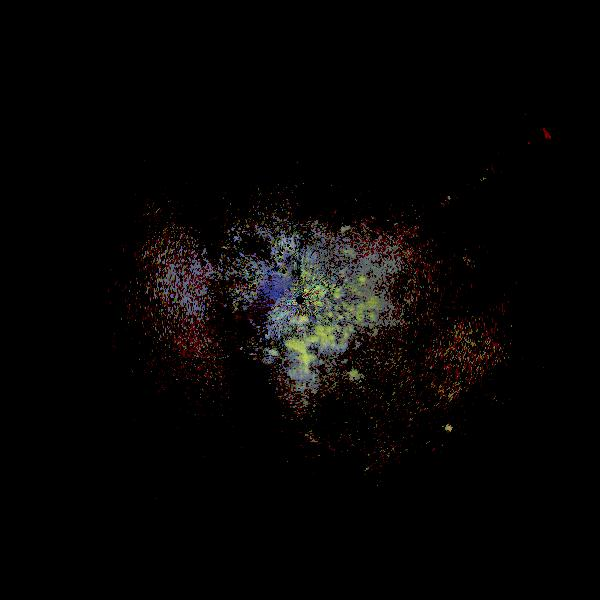roost: (262, 332, 325, 395)
